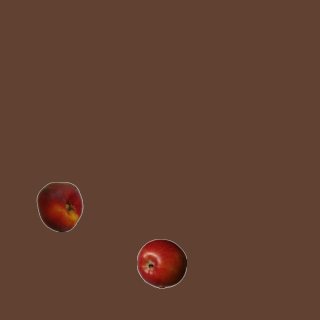Apple Braeburn: (136, 238, 186, 288)
Nectarine Flat: (34, 181, 84, 231)
